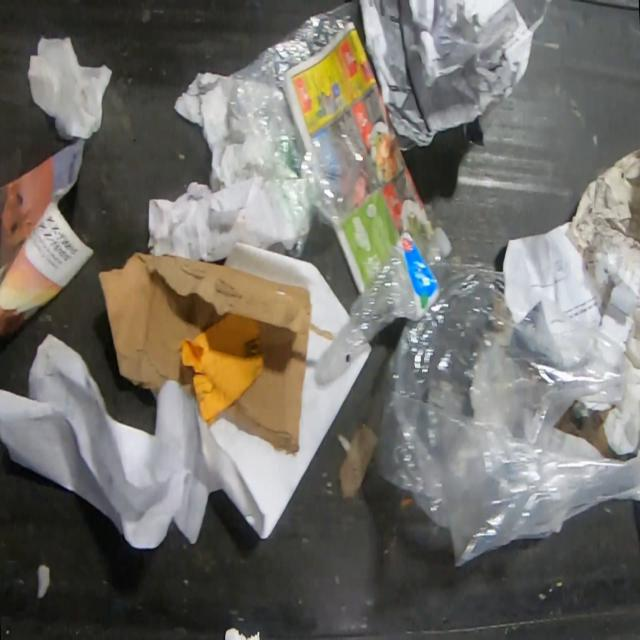cardboard: (96, 249, 333, 456), (556, 406, 616, 458)
rigid_plastic: (333, 221, 455, 358), (299, 123, 368, 231)
soft_plastic: (360, 254, 640, 570), (222, 0, 367, 260)
